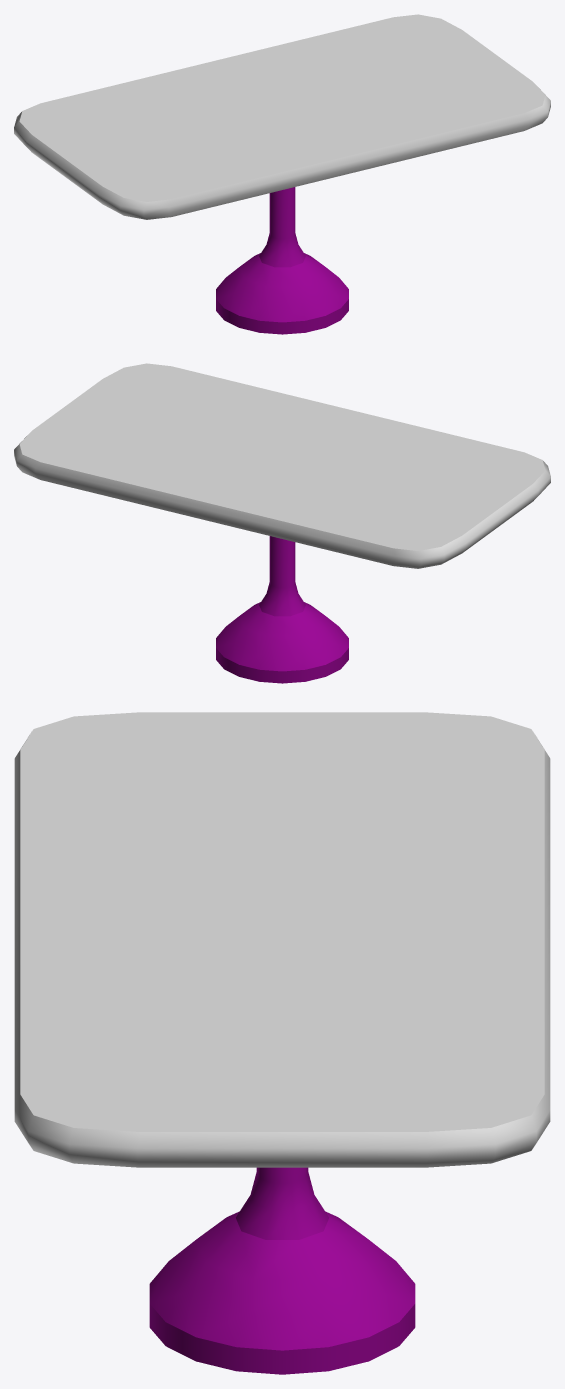
The model's file is SmolTable.FBX.
3 renders of one model, top to bottom at view 1: azimuth 30°, elevation 25°; view 2: azimuth 150°, elevation 25°; view 3: azimuth 270°, elevation 25°, orthographic. The views are drawn at different scales.
Visible parts, largest first — view 1: PRP_Table_1; view 2: PRP_Table_1; view 3: PRP_Table_1.
Boxes of the visible parts, <box> form: PRP_Table_1: <box>14,14,550,334</box>; PRP_Table_1: <box>14,363,550,683</box>; PRP_Table_1: <box>14,712,550,1374</box>.
Bounding box in the file's own units: 168 × 72.08 × 88.42.
